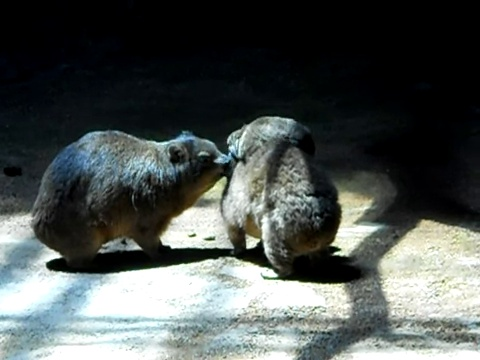Rock Hyrex: (30, 129, 235, 264), (222, 121, 342, 280)
